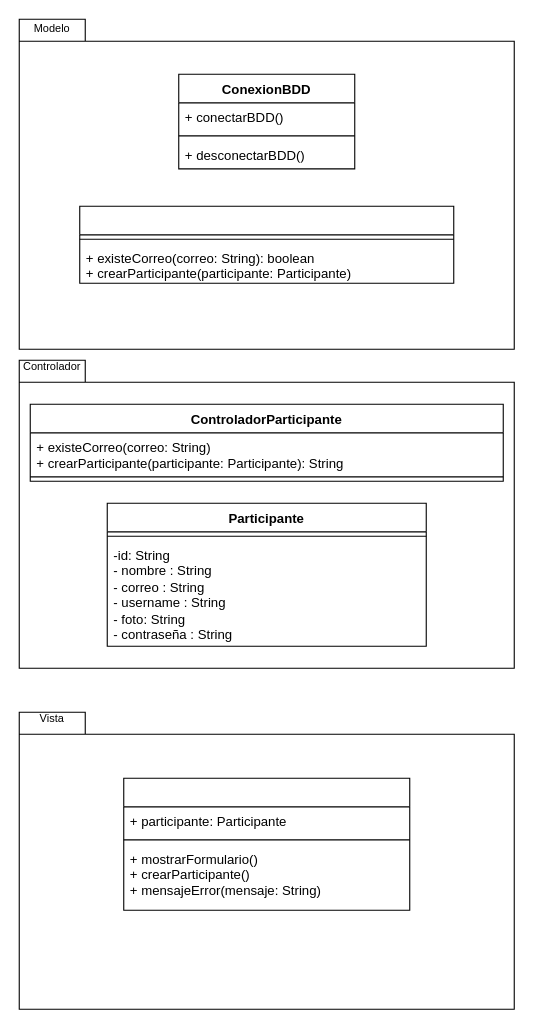
The diagram is 534 pixels wide and 1029 high, and some of its shapes have lost their labels. The box of each missing label's shape, as (x1, y1, x2, y2) in pixels:
BDDCrearParticipante: (79, 205, 454, 283)
VistaCrearCuenta: (123, 777, 410, 910)
